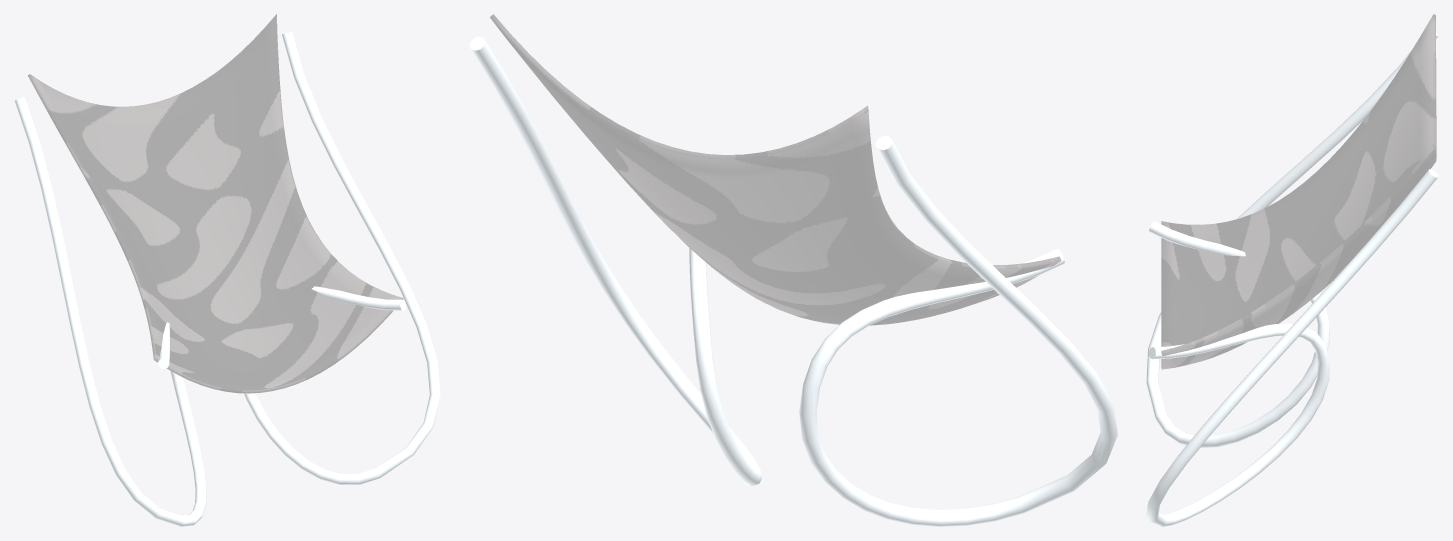
File: ref03_02.glb
3 renders of one model, left to right at view 1: azimuth 30°, elevation 25°; view 2: azimuth 150°, elevation 25°; view 3: azimuth 270°, elevation 25°, orthographic. The views are drawn at different scales.
Parts seen in each view (by area): view 1: ref03_02; view 2: ref03_02; view 3: ref03_02.
Boxes of the visible parts, left/top/right/bottom form: ref03_02: left=14, top=14, right=440, bottom=526; ref03_02: left=469, top=14, right=1117, bottom=526; ref03_02: left=1146, top=14, right=1438, bottom=526.
Bounding box in the file's own units: 0.9563 × 1.01 × 0.6654.
2 materials, 1 textured.
